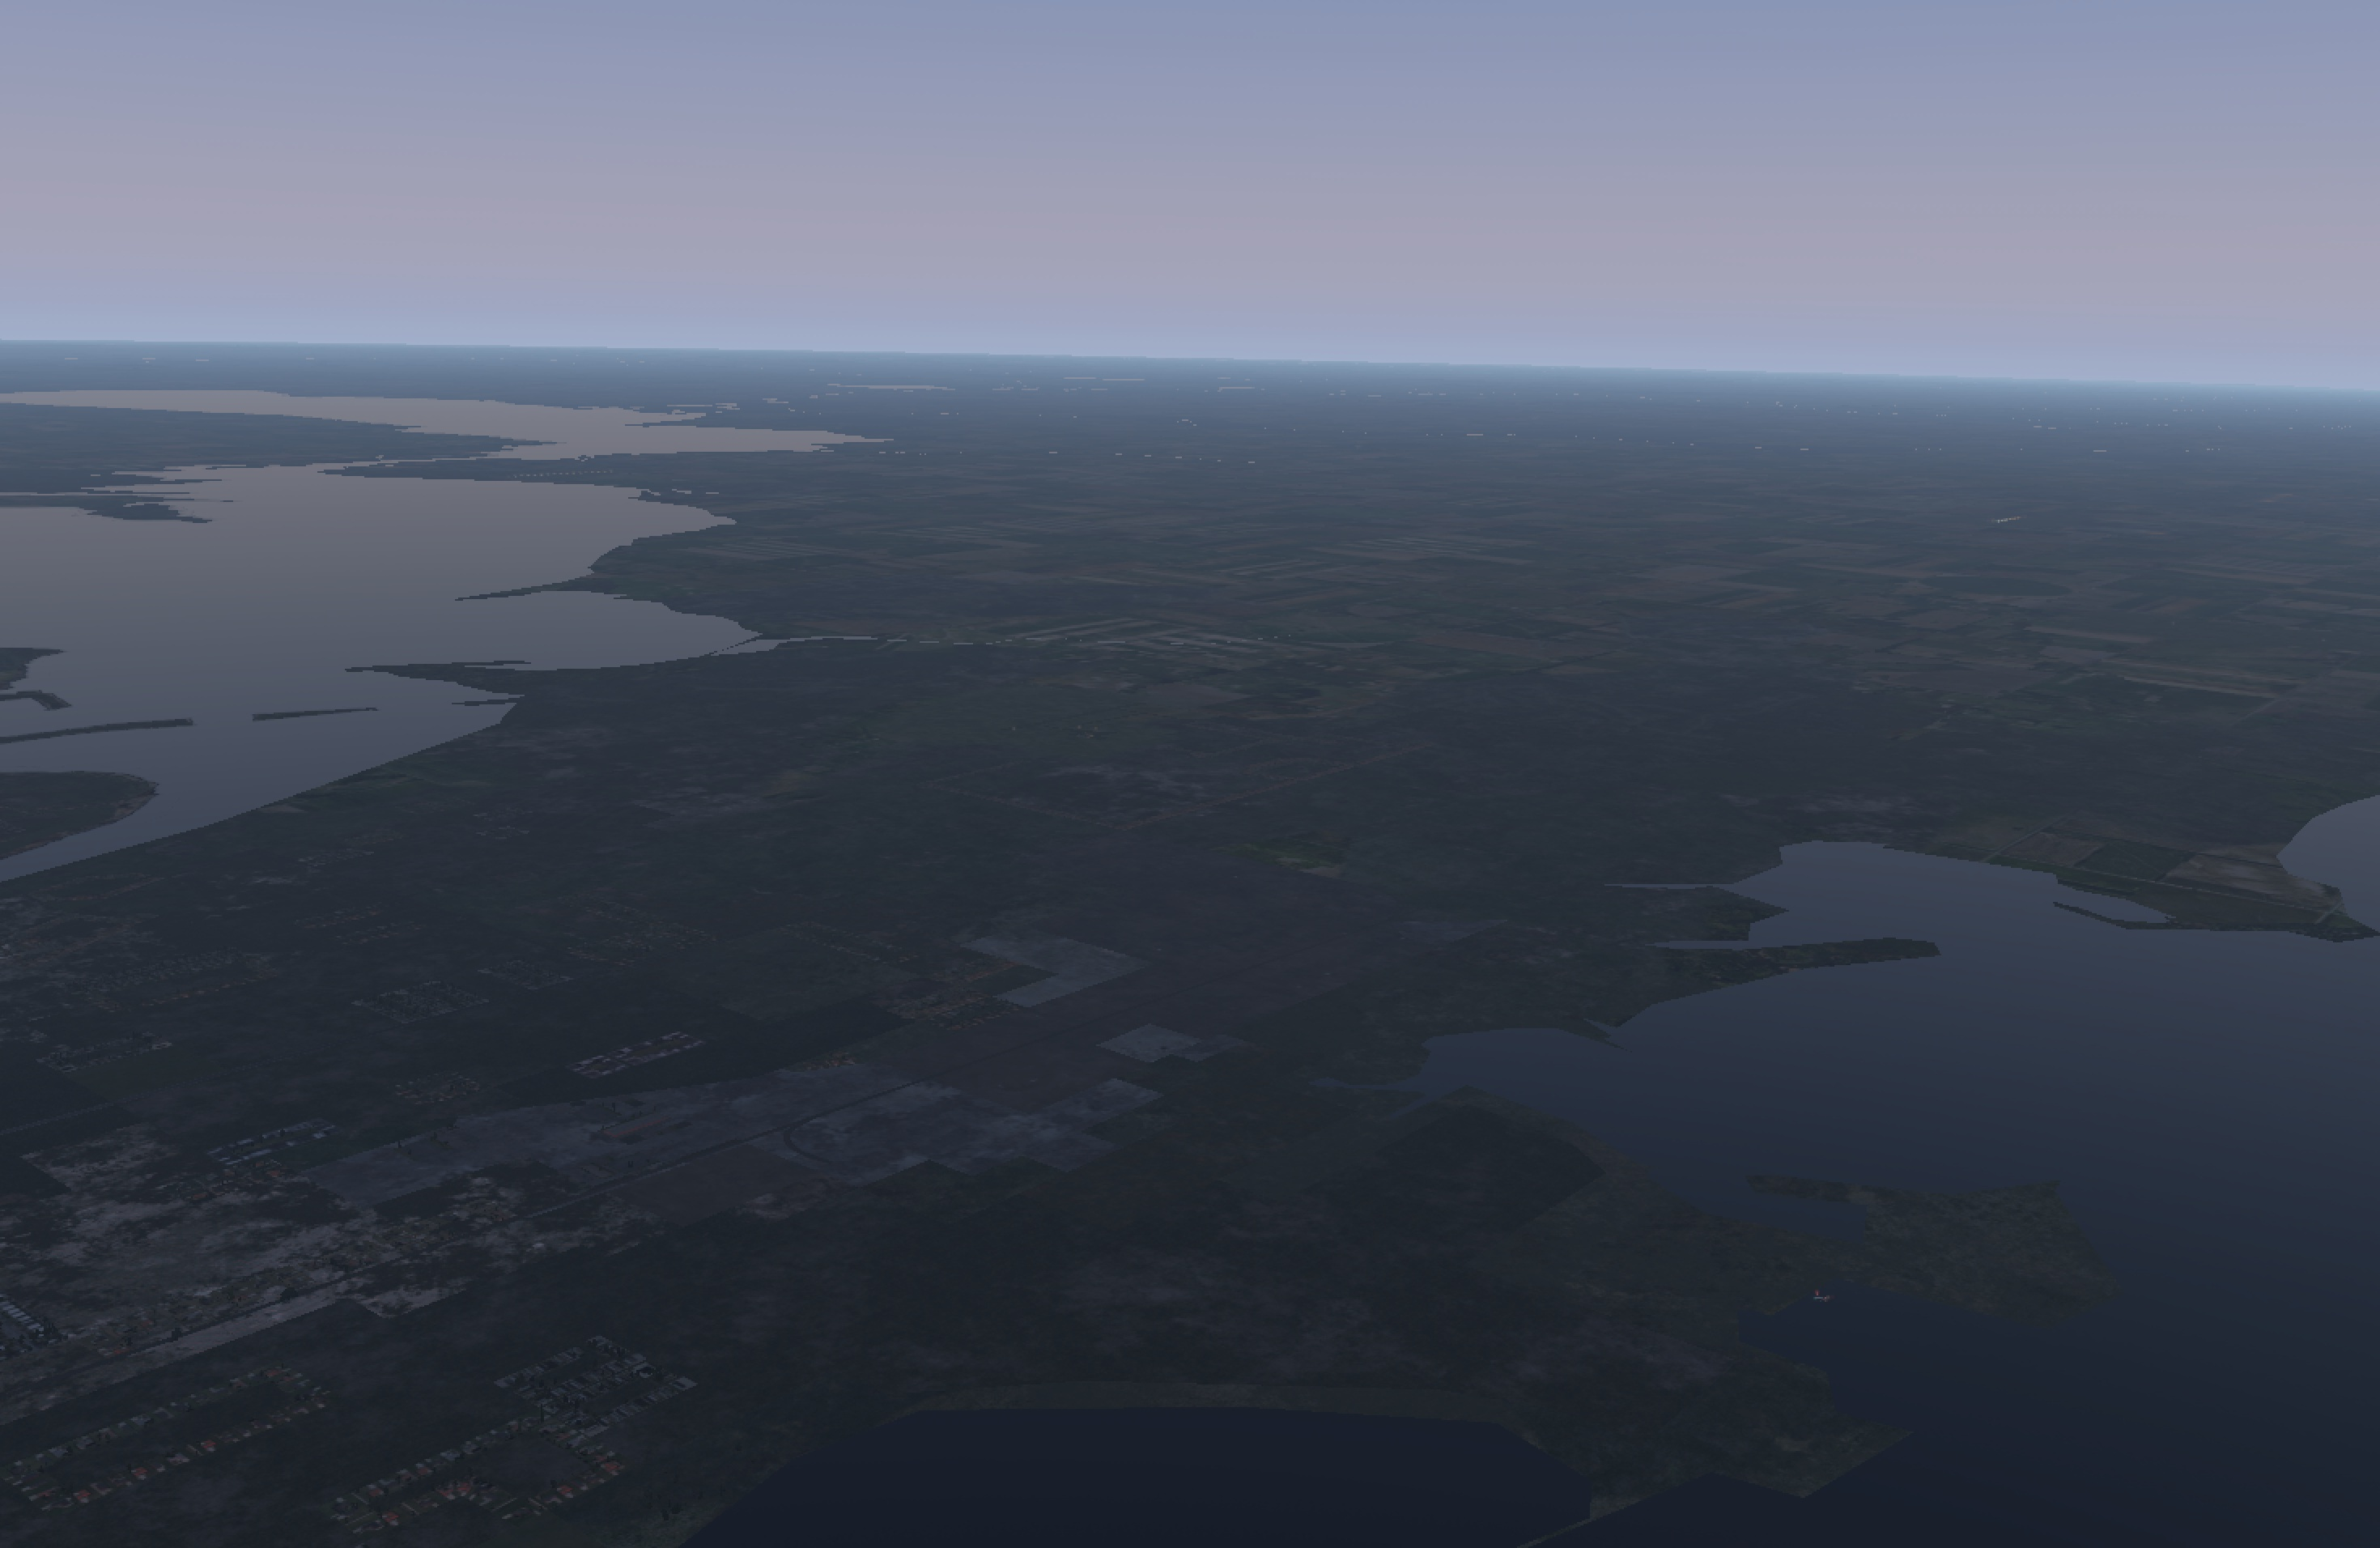aircraft: (1816, 1296, 1830, 1302)
